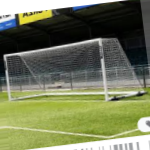goals: (4, 37, 146, 101)
